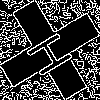H: (25, 25, 82, 79)
